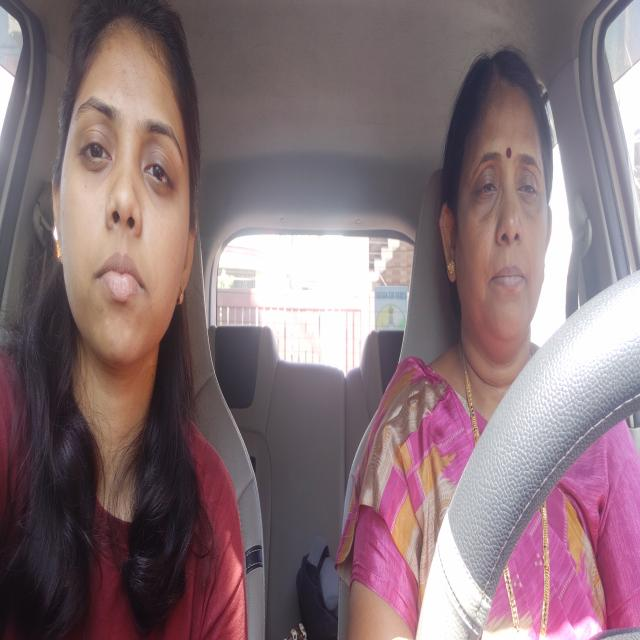drowsy: (429, 37, 586, 378)
person: (36, 4, 215, 434)
